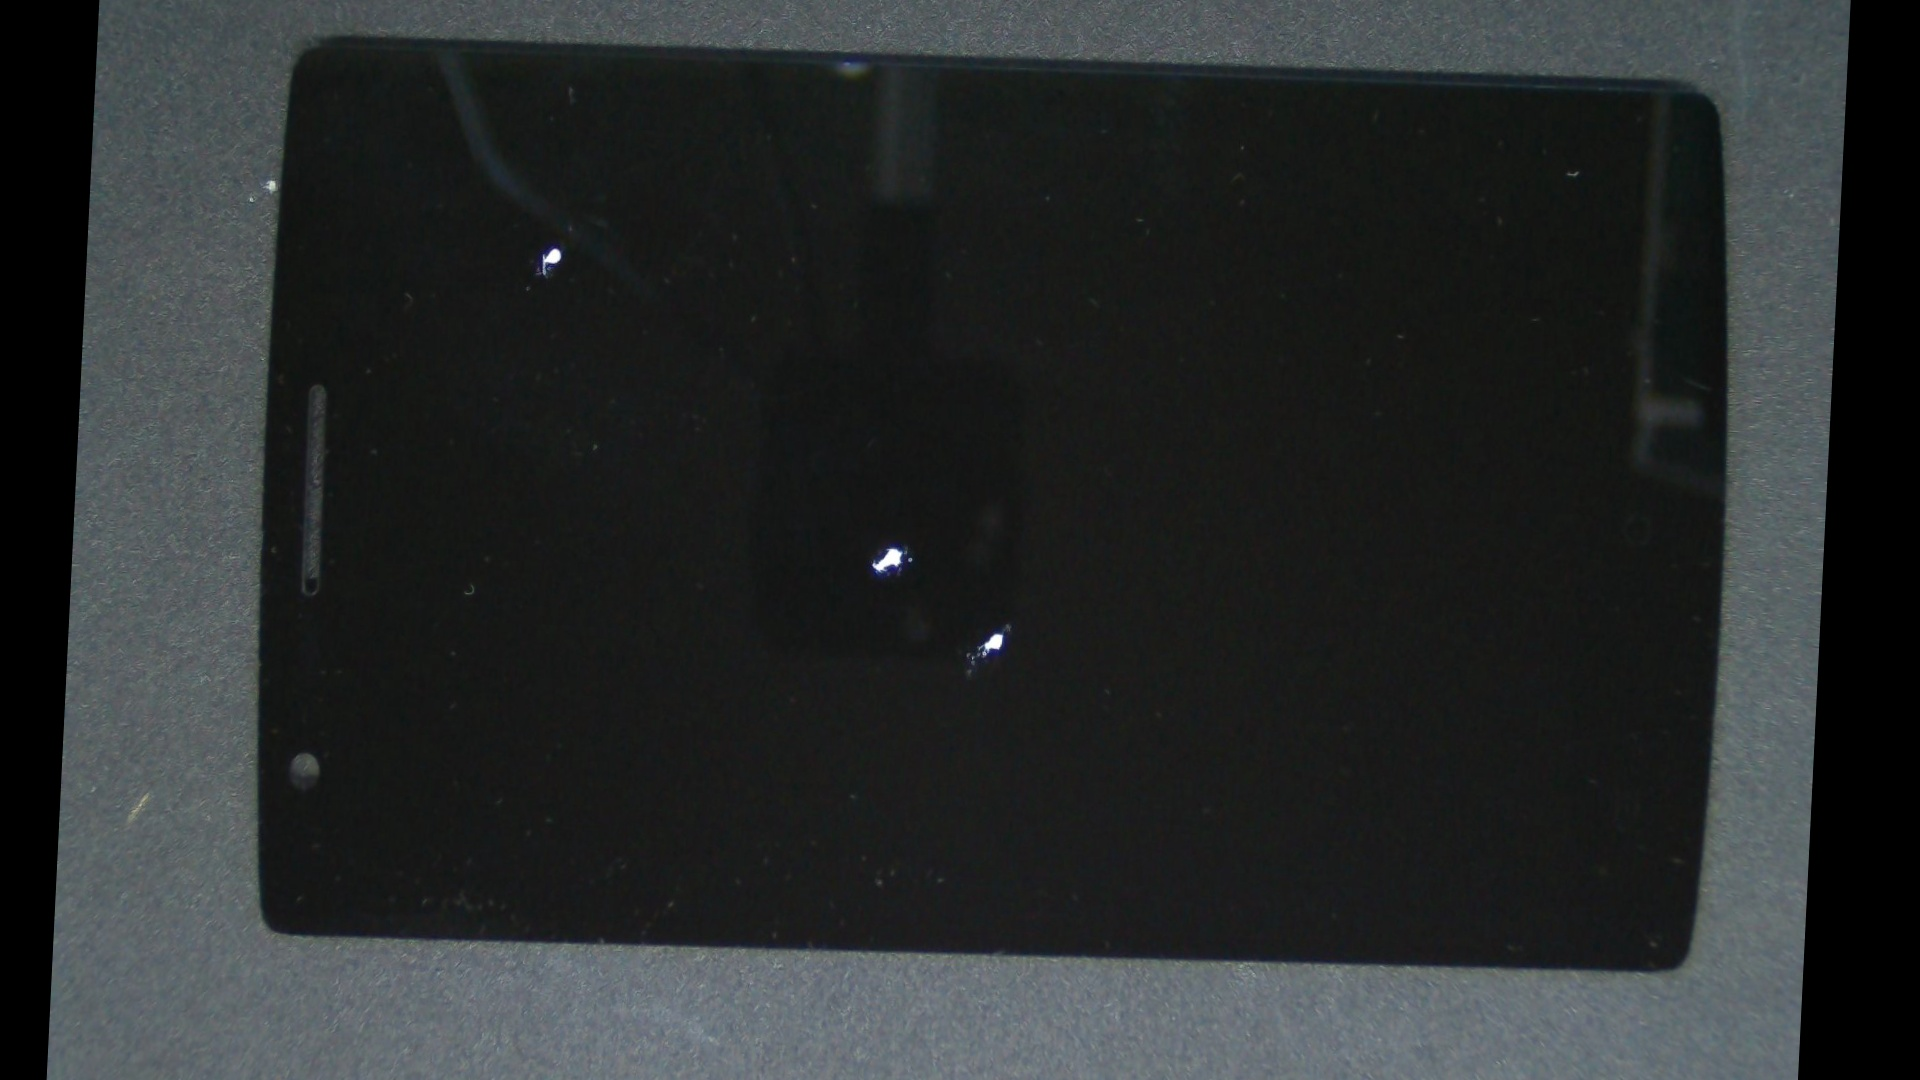oil: (522, 255, 1491, 989), (475, 216, 1335, 872), (313, 67, 793, 427)
